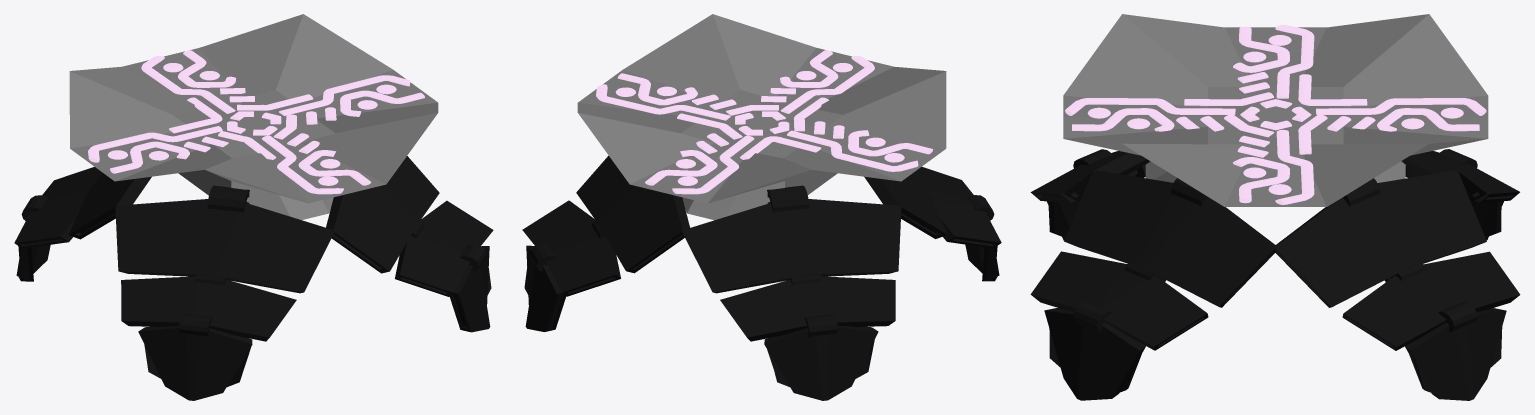
The model's file is Rails.fbx.
3 renders of one model, left to right at view 1: azimuth 30°, elevation 25°; view 2: azimuth 150°, elevation 25°; view 3: azimuth 270°, elevation 25°, orthographic. The views are drawn at different scales.
Visible parts, largest first — view 1: Cube.001, Leg.008, Leg.009, runes.003, runes.002; view 2: Cube.001, Leg.009, Leg.008, runes.003, runes.002; view 3: Cube.001, Leg.009, Leg.008, runes.002, runes.003.
Boxes of the visible parts, x1=… form: Cube.001: x1=69, y1=14, x2=438, y2=219; Leg.008: x1=115, y1=185, x2=334, y2=400; Leg.009: x1=14, y1=156, x2=493, y2=332; runes.003: x1=88, y1=75, x2=424, y2=173; runes.002: x1=141, y1=50, x2=371, y2=194; Cube.001: x1=577, y1=14, x2=946, y2=220; Leg.009: x1=682, y1=185, x2=901, y2=400; Leg.008: x1=522, y1=155, x2=1001, y2=331; runes.003: x1=596, y1=73, x2=932, y2=171; runes.002: x1=645, y1=50, x2=874, y2=194; Cube.001: x1=1063, y1=14, x2=1488, y2=206; Leg.009: x1=1030, y1=149, x2=1519, y2=400; Leg.008: x1=1030, y1=149, x2=1520, y2=400; runes.002: x1=1065, y1=98, x2=1486, y2=131; runes.003: x1=1233, y1=24, x2=1314, y2=204.
Size of the model in its own units: 418 by 225 by 418.
